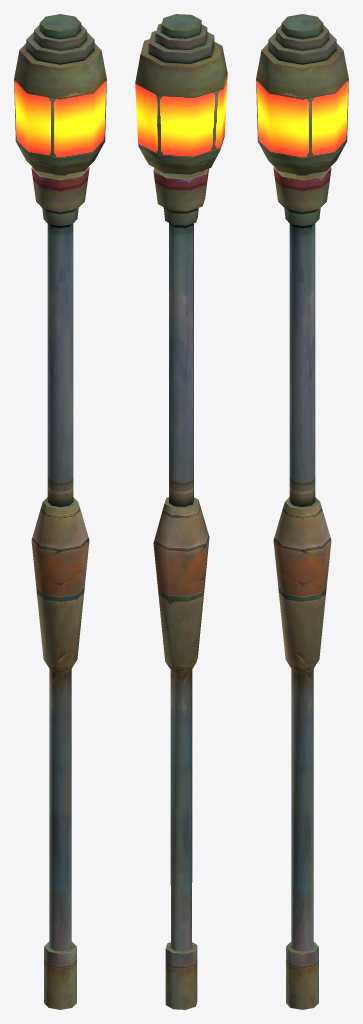
File: all_item_slum_lamppost.glb
3 renders of one model, left to right at view 1: azimuth 90°, elevation 25°; view 2: azimuth 150°, elevation 25°; view 3: azimuth 270°, elevation 25°, orthographic.
Visible parts, largest first — view 1: all_item_slum_lamppost; view 2: all_item_slum_lamppost; view 3: all_item_slum_lamppost.
Boxes of the visible parts, bbox=[...] form: all_item_slum_lamppost: bbox=[14, 14, 106, 1009]; all_item_slum_lamppost: bbox=[135, 14, 227, 1009]; all_item_slum_lamppost: bbox=[256, 14, 348, 1009].
Bounding box in the file's own units: 0.0512 × 0.568 × 0.0487.
1 material, 1 textured.
